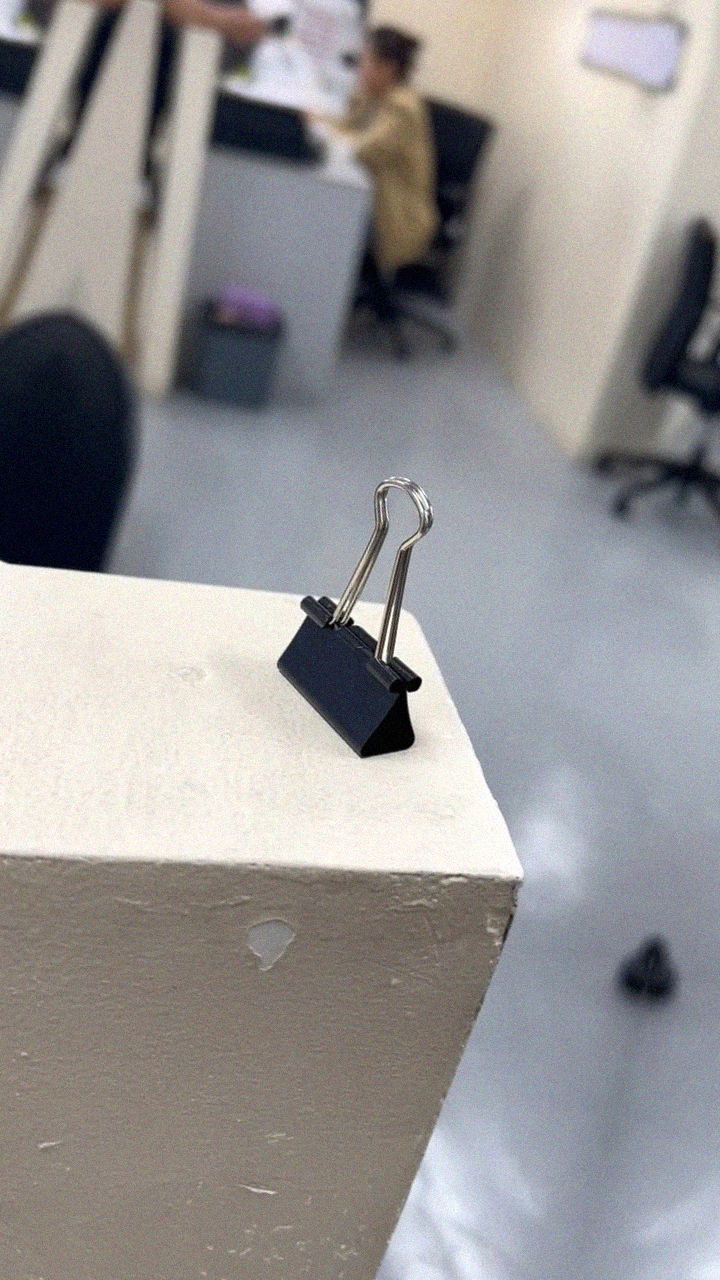kep_giay: (247, 454, 482, 775)
